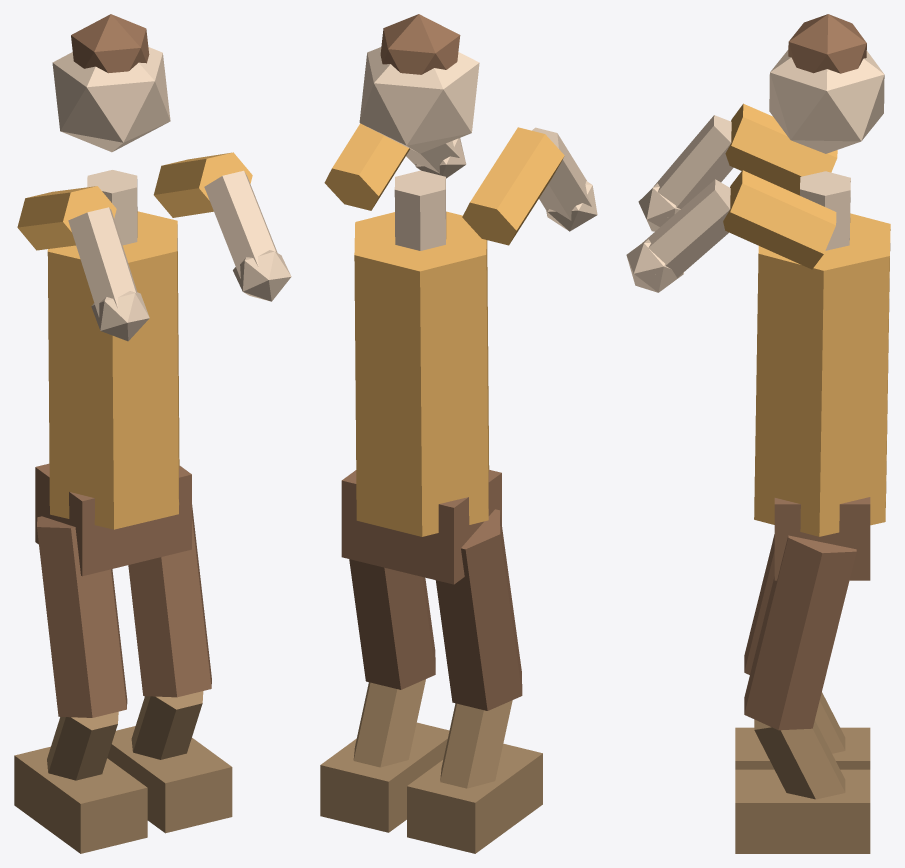
Rendered from pose_idle_07.glb.
The picture shows the model from 3 angles, left to right: view 1: azimuth 30°, elevation 25°; view 2: azimuth 150°, elevation 25°; view 3: azimuth 270°, elevation 25°; orthographic projection. The views are drawn at different scales.
Visible parts, largest first — view 1: pose; view 2: pose; view 3: pose.
Part boxes in pixels (x1=…): pose: x1=14, y1=14, x2=291, y2=853; pose: x1=320, y1=14, x2=597, y2=853; pose: x1=626, y1=14, x2=890, y2=853.
Size of the model in its own units: 0.3971 by 1.58 by 0.4702.
